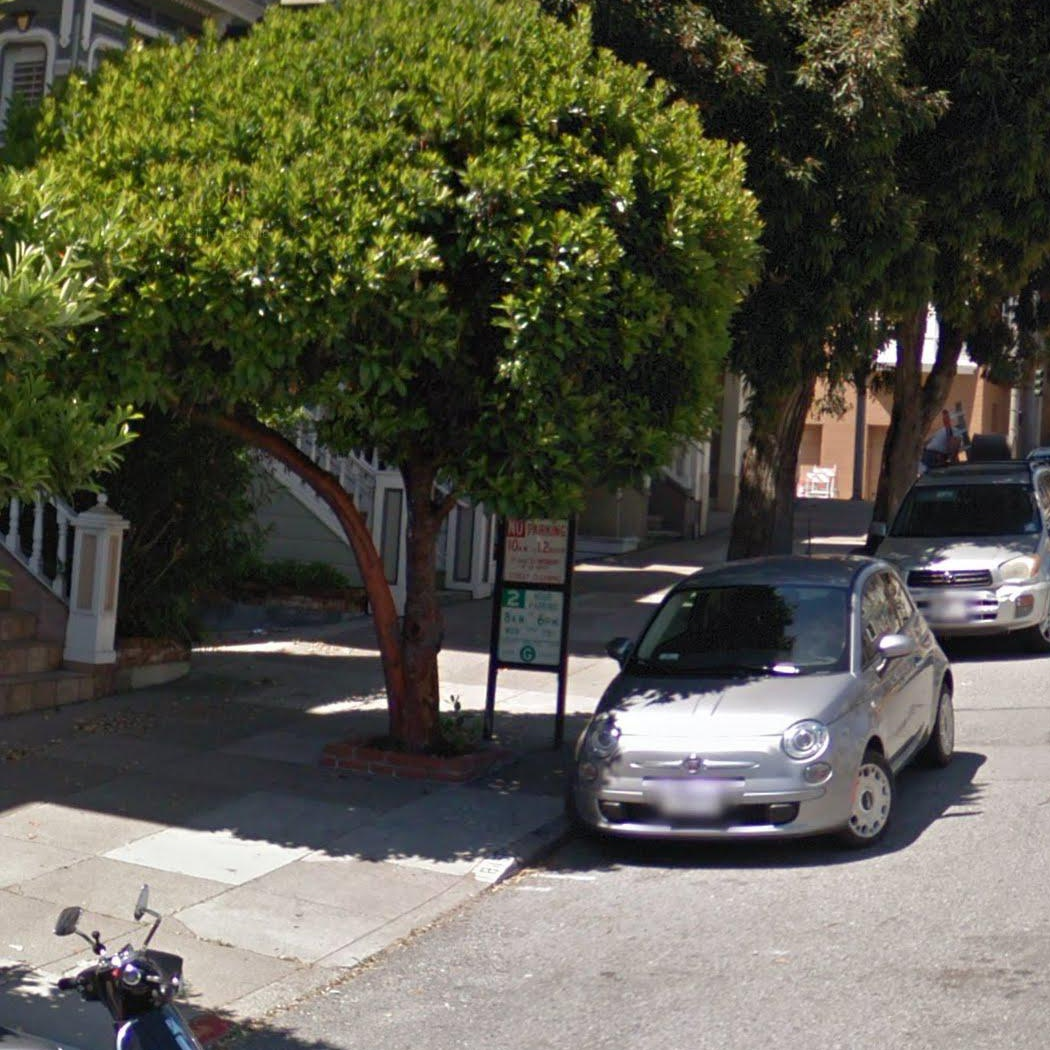2 Hour Parking: (496, 585, 565, 667)
No Parking: (502, 516, 571, 585)
